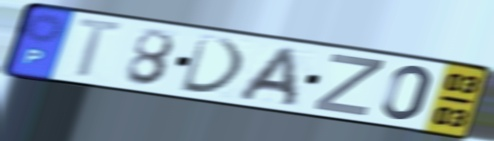0: (379, 63, 435, 123)
8: (123, 28, 178, 88)
A: (233, 44, 299, 110)
D: (177, 32, 249, 97)
T: (72, 15, 130, 81)
Z: (309, 51, 388, 119)
